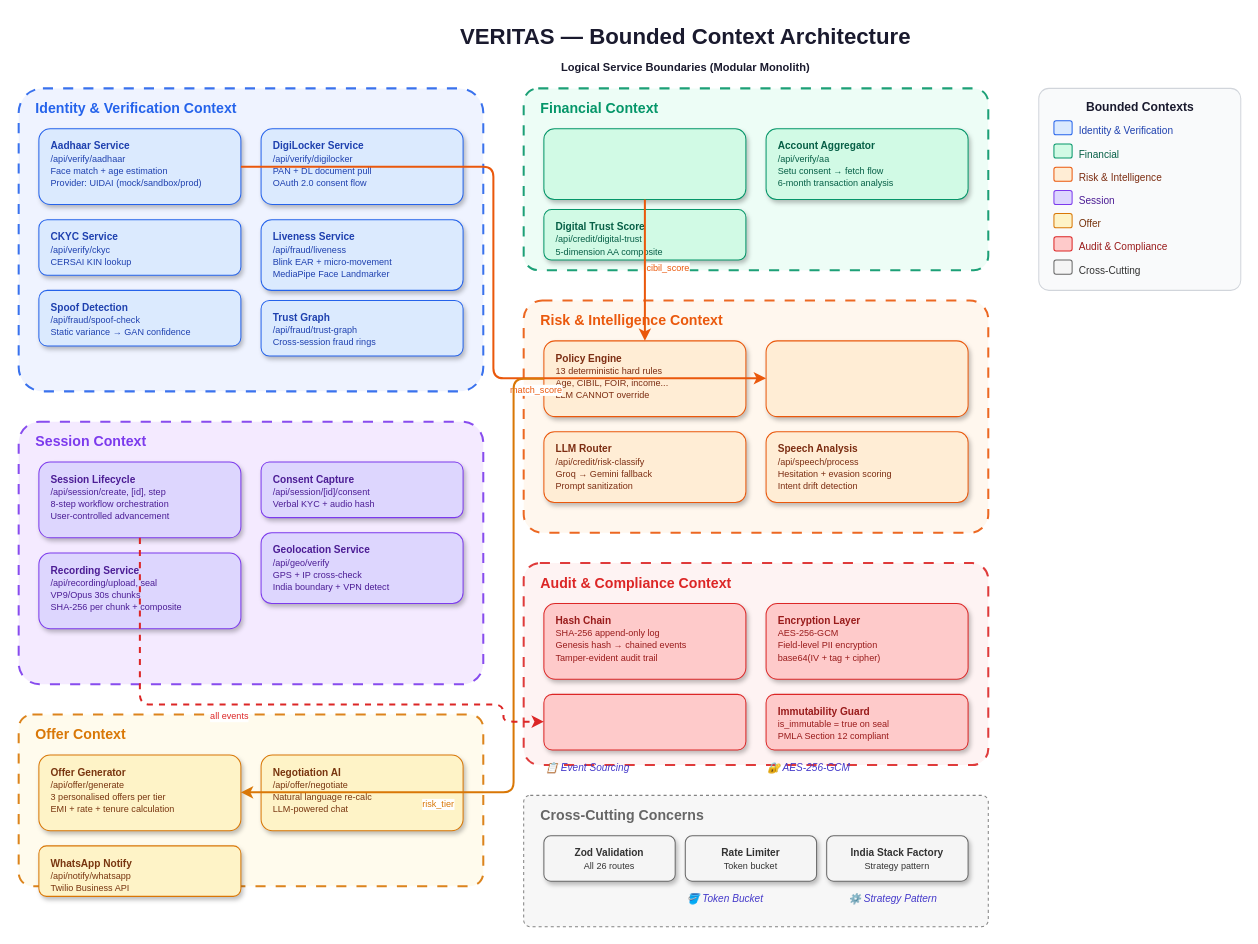
Image size: 1258x944. Some labels were removed from this diagram. The centre of each missing label's shape, as x and y in pixels:
"Audit Logger Event capture + RBI citations Session immutability flag" belongs at point (645, 723).
"CIBIL Service /api/verify/cibil Credit score + report TransUnion bureau pull" belongs at point (645, 165).
"Risk Engine Live 0-100 score 15 event types Baseline 35 + deltas" belongs at point (867, 380).
